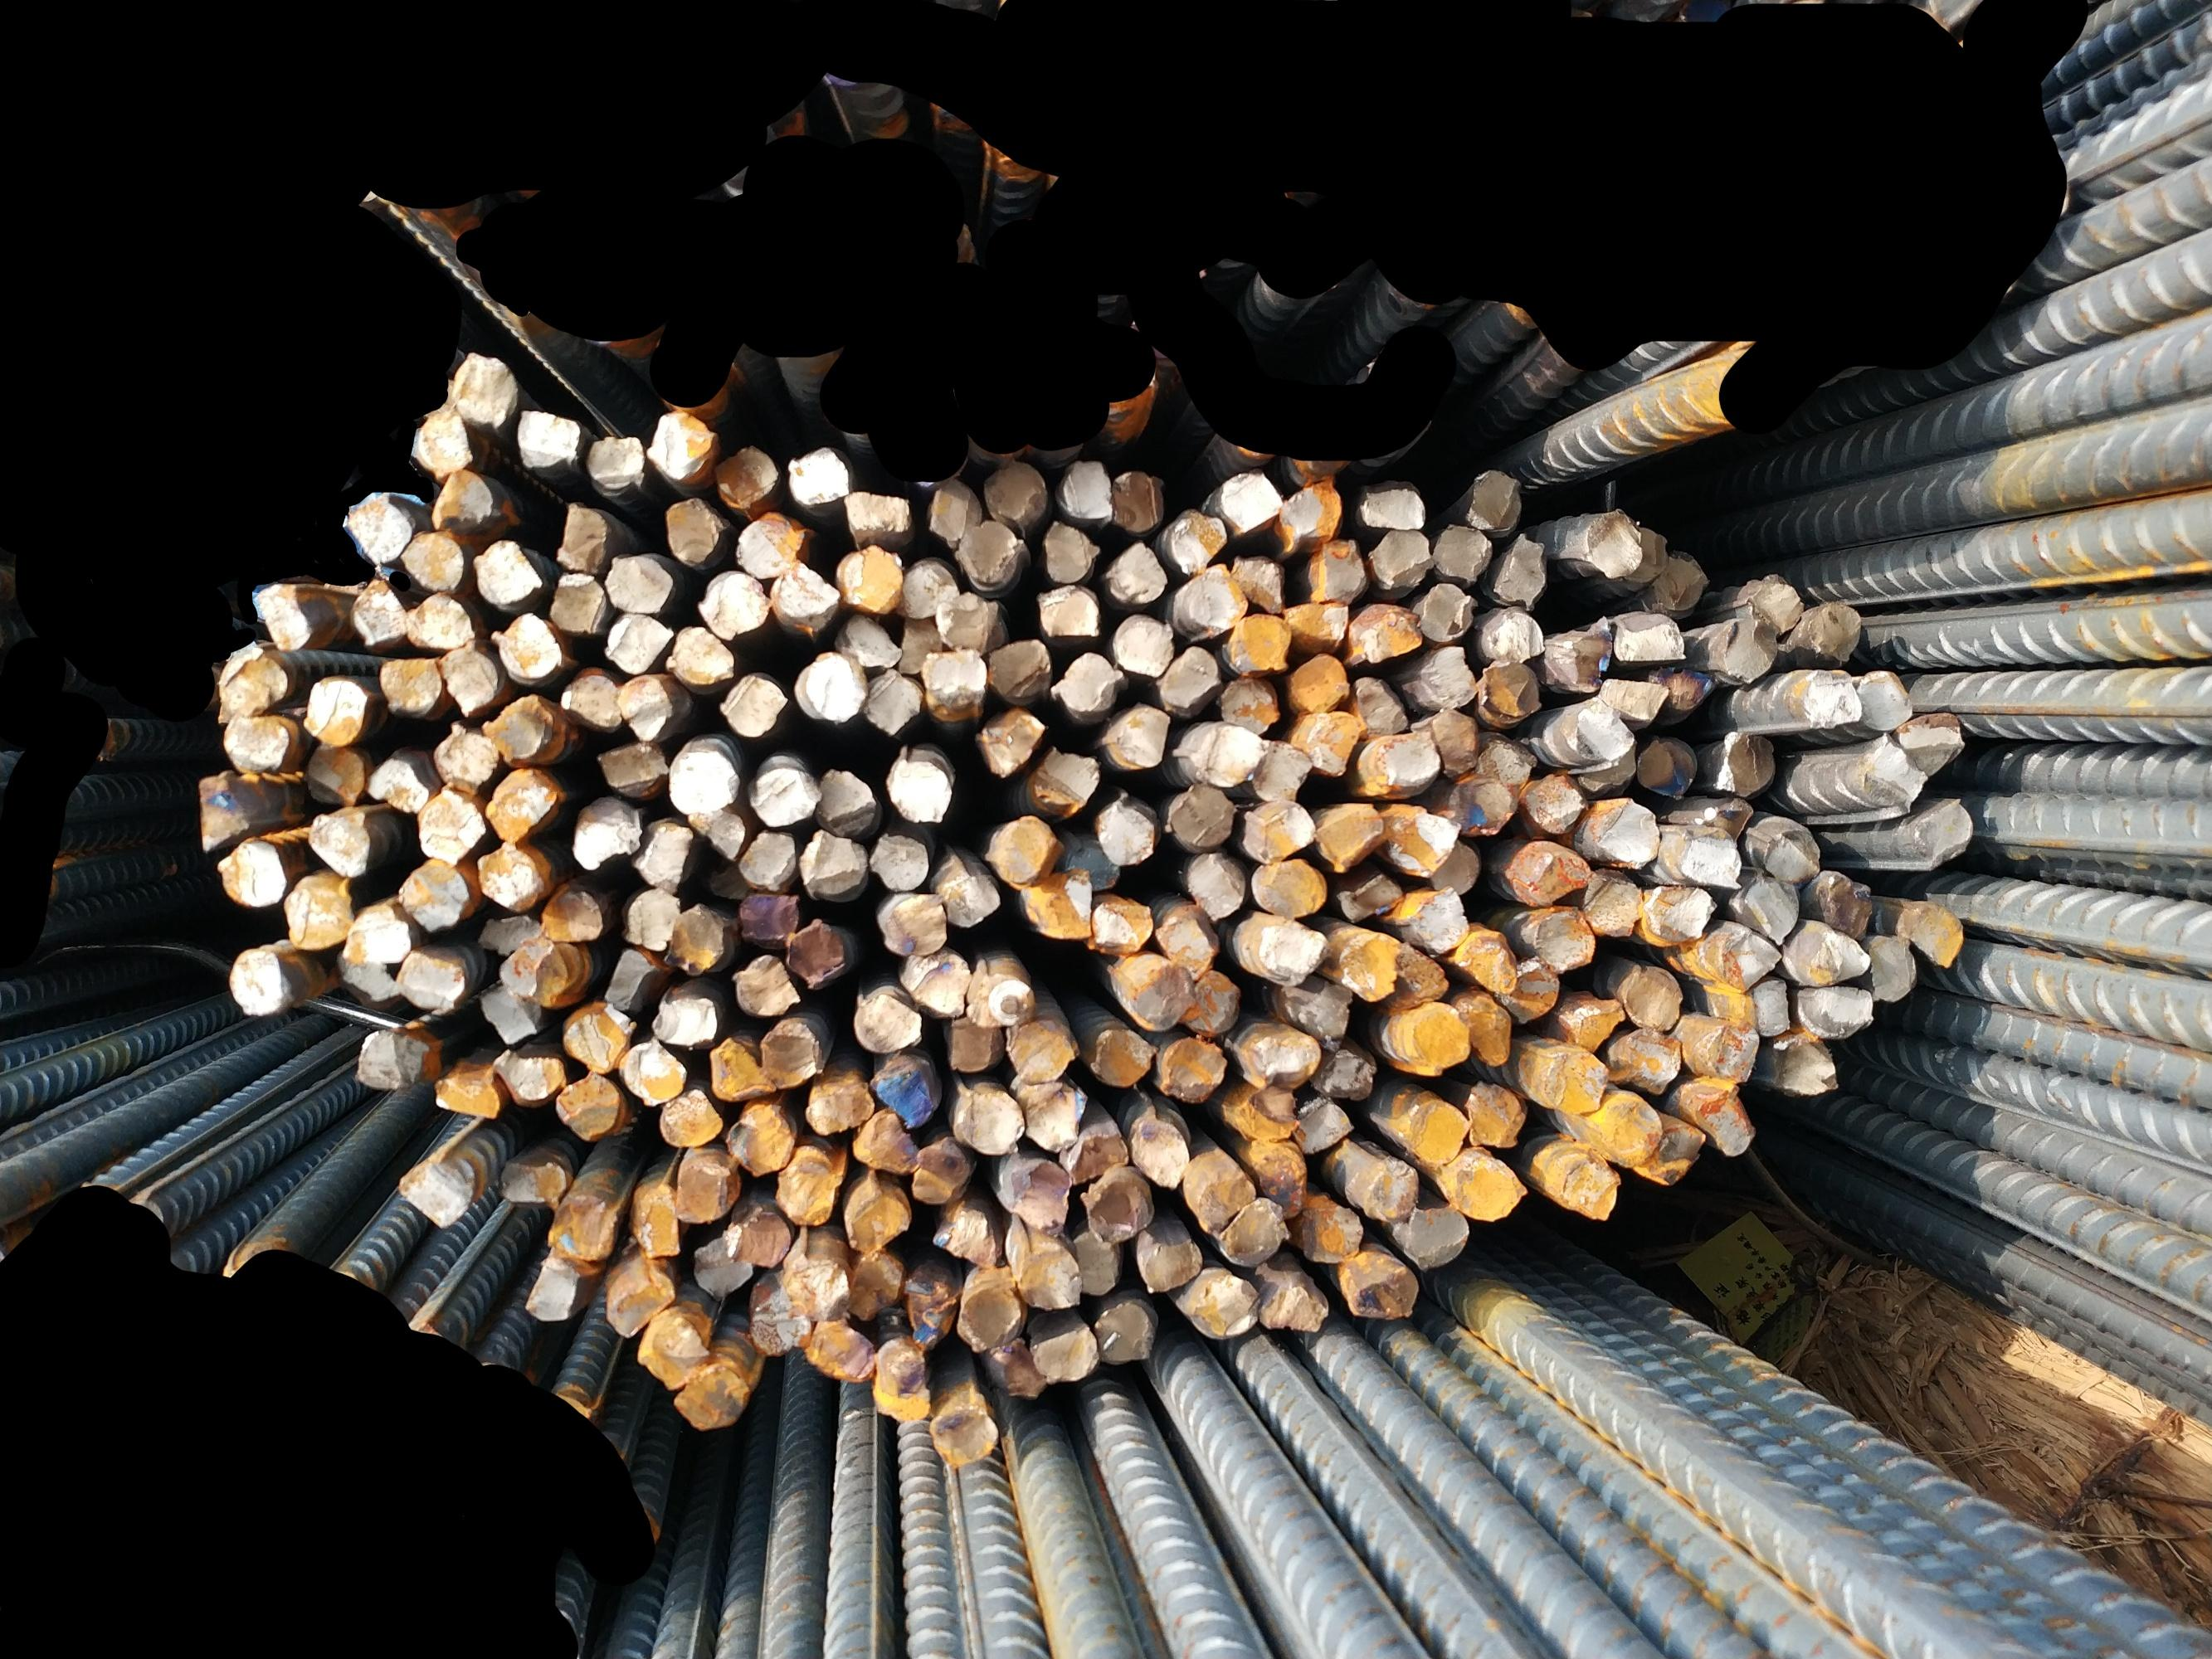bar: (1534, 1141, 1621, 1223), (540, 1194, 624, 1274), (1173, 1267, 1262, 1342), (631, 1309, 711, 1389), (394, 1152, 478, 1229), (1243, 915, 1332, 986), (1781, 915, 1870, 986), (791, 647, 868, 727), (1436, 1152, 1523, 1222), (483, 765, 556, 847), (1382, 805, 1464, 878), (1002, 1154, 1074, 1237), (1504, 840, 1593, 906), (394, 856, 469, 934), (214, 641, 288, 721), (281, 870, 354, 950), (694, 568, 774, 641), (486, 610, 565, 683), (926, 1396, 1004, 1469), (1116, 960, 1196, 1032), (1602, 1028, 1682, 1100), (410, 791, 485, 866), (497, 938, 573, 1011), (722, 1100, 795, 1176), (950, 1082, 1027, 1155), (981, 809, 1058, 882), (971, 704, 1048, 777), (1175, 559, 1248, 636), (1077, 1171, 1154, 1244), (605, 1262, 676, 1340), (1011, 1236, 1082, 1314), (1400, 999, 1471, 1077), (343, 486, 413, 566), (1180, 723, 1265, 788), (214, 833, 288, 908), (1288, 704, 1363, 777), (612, 1035, 689, 1107), (1020, 866, 1091, 943), (1367, 727, 1445, 796), (669, 1364, 751, 1431), (1389, 1100, 1471, 1166), (1128, 1107, 1191, 1192), (549, 1070, 624, 1141), (556, 1000, 631, 1072), (800, 1314, 877, 1384), (746, 762, 824, 829), (350, 1028, 432, 1093), (772, 1155, 845, 1227), (899, 945, 971, 1018), (643, 408, 716, 479), (1028, 744, 1102, 816), (882, 753, 952, 828), (1858, 735, 1928, 810), (1156, 643, 1224, 720), (1593, 795, 1661, 871), (1733, 870, 1801, 946), (662, 746, 741, 812), (1279, 474, 1346, 552), (1248, 857, 1328, 922), (427, 721, 499, 793), (472, 840, 544, 911), (769, 559, 842, 629), (1018, 1080, 1088, 1154), (1313, 800, 1386, 870), (1447, 770, 1520, 840), (744, 1283, 812, 1358), (1049, 648, 1124, 716), (1494, 953, 1562, 1028), (338, 899, 415, 965), (1382, 939, 1449, 1016), (1578, 505, 1644, 582), (453, 349, 518, 427), (1001, 1019, 1079, 1084), (1346, 599, 1424, 664), (1400, 645, 1478, 709), (1642, 884, 1720, 948), (483, 690, 553, 762), (797, 828, 866, 899), (708, 1033, 777, 1105), (777, 1251, 849, 1321), (734, 507, 805, 577), (300, 810, 373, 878), (572, 795, 640, 868), (757, 1018, 824, 1091), (844, 1183, 912, 1256), (856, 666, 924, 739), (1215, 1197, 1288, 1265), (1163, 782, 1236, 850), (1396, 885, 1469, 953), (225, 945, 291, 1019), (1241, 798, 1316, 864), (387, 950, 465, 1012), (957, 1274, 1020, 1352), (1471, 657, 1541, 727), (469, 537, 540, 605), (1215, 467, 1286, 535), (1084, 1021, 1156, 1089), (1525, 904, 1597, 972), (1564, 695, 1635, 763), (303, 674, 370, 748), (851, 988, 924, 1054), (664, 624, 737, 690), (953, 521, 1027, 587), (1279, 976, 1353, 1042), (1412, 704, 1478, 777), (1677, 823, 1743, 896), (629, 819, 694, 894), (436, 640, 499, 716), (490, 1044, 567, 1107), (626, 1182, 685, 1262), (1454, 988, 1513, 1068), (518, 1256, 586, 1326), (849, 1108, 919, 1176), (833, 542, 903, 610), (1102, 701, 1171, 769), (1903, 796, 1973, 864), (931, 1201, 1002, 1267), (1537, 1047, 1609, 1114), (1595, 1100, 1661, 1171), (1712, 728, 1778, 800), (661, 901, 725, 974), (729, 951, 802, 1016), (875, 892, 948, 957), (1691, 1080, 1754, 1155), (844, 1244, 905, 1321), (298, 741, 366, 809), (711, 443, 779, 511), (1152, 910, 1220, 978), (1245, 735, 1313, 803), (1769, 1028, 1837, 1096), (1898, 901, 1966, 969), (718, 671, 788, 737), (1157, 1037, 1227, 1103), (1621, 962, 1686, 1033), (1581, 868, 1645, 939), (1752, 819, 1823, 884), (1719, 922, 1781, 995), (1813, 866, 1876, 939), (218, 713, 293, 774), (601, 552, 676, 613), (1492, 533, 1551, 610), (192, 770, 246, 854), (1609, 608, 1687, 666), (983, 636, 1051, 702), (425, 469, 495, 533), (432, 1058, 502, 1122), (689, 1229, 753, 1298), (603, 612, 673, 676), (1295, 1199, 1365, 1263), (1365, 525, 1435, 589), (908, 1136, 971, 1208), (1095, 795, 1157, 866), (1337, 929, 1400, 1000), (1560, 613, 1616, 694), (1245, 1026, 1320, 1086), (514, 406, 580, 472), (1192, 1168, 1259, 1234), (981, 457, 1046, 525), (1464, 1079, 1529, 1147), (1225, 610, 1293, 674), (1717, 615, 1781, 683), (363, 753, 432, 816), (397, 528, 467, 591), (812, 767, 875, 836), (1030, 1323, 1100, 1385), (804, 1072, 873, 1134), (872, 1058, 934, 1127), (661, 495, 723, 565), (1246, 1147, 1309, 1216), (1795, 983, 1874, 1039), (401, 587, 472, 648), (786, 918, 847, 990), (1398, 1208, 1469, 1269), (673, 1157, 739, 1222), (936, 864, 1002, 929), (1848, 667, 1914, 732), (1898, 706, 1964, 770), (345, 579, 408, 647), (917, 647, 985, 709), (1093, 1298, 1156, 1366), (1184, 852, 1246, 920), (722, 1206, 791, 1267), (784, 444, 854, 505), (1637, 1124, 1706, 1185), (253, 580, 312, 652), (905, 1269, 957, 1349), (934, 586, 999, 650), (1110, 610, 1173, 676), (1217, 674, 1283, 737), (1522, 772, 1588, 835), (1060, 1126, 1128, 1187), (535, 884, 605, 943), (499, 1150, 568, 1209), (1347, 1262, 1417, 1321), (1557, 995, 1626, 1054), (833, 613, 905, 671), (594, 739, 668, 795), (324, 951, 399, 1006), (1255, 1281, 1330, 1335), (1412, 580, 1476, 643), (1455, 934, 1520, 997), (1637, 735, 1701, 798), (1799, 664, 1862, 728), (622, 887, 683, 953), (1700, 1021, 1761, 1087), (655, 1087, 723, 1147), (1168, 505, 1227, 573), (1307, 537, 1367, 605), (415, 408, 472, 477), (648, 990, 720, 1046), (966, 971, 1037, 1026), (866, 828, 929, 890), (1288, 650, 1351, 713), (734, 828, 795, 892), (1105, 537, 1166, 601), (558, 674, 624, 734), (582, 432, 648, 491), (1088, 899, 1154, 958), (1185, 969, 1243, 1037), (1309, 1046, 1379, 1101), (1863, 932, 1917, 1004), (1037, 580, 1100, 641), (1138, 1234, 1201, 1295), (1358, 1157, 1419, 1220), (1581, 735, 1644, 796), (378, 655, 443, 714), (615, 674, 675, 739), (1433, 519, 1492, 584), (1480, 605, 1544, 664), (1058, 457, 1116, 523), (1649, 660, 1717, 716), (899, 558, 960, 619), (1741, 573, 1802, 634), (736, 890, 798, 950), (1349, 674, 1408, 737), (547, 570, 605, 634), (1597, 673, 1670, 723), (926, 479, 981, 545), (1286, 1100, 1354, 1154), (556, 500, 608, 570), (479, 985, 540, 1044), (1464, 469, 1523, 530), (840, 486, 912, 537), (1645, 552, 1708, 610), (870, 1335, 926, 1399), (1044, 519, 1100, 584), (1109, 467, 1164, 532), (1229, 552, 1285, 617), (1234, 1086, 1299, 1141), (1809, 596, 1863, 662), (1332, 871, 1405, 918), (1426, 838, 1483, 897), (947, 1012, 1002, 1073), (1475, 732, 1536, 788), (601, 946, 655, 1009), (1072, 1230, 1119, 1302), (690, 805, 748, 863), (1065, 833, 1119, 894), (1694, 796, 1759, 847), (1360, 481, 1426, 530), (865, 1377, 933, 1424), (1279, 598, 1347, 645), (994, 1338, 1046, 1399), (1741, 976, 1794, 1037), (467, 913, 539, 957), (896, 612, 943, 676), (1623, 525, 1670, 582), (701, 854, 751, 901)
